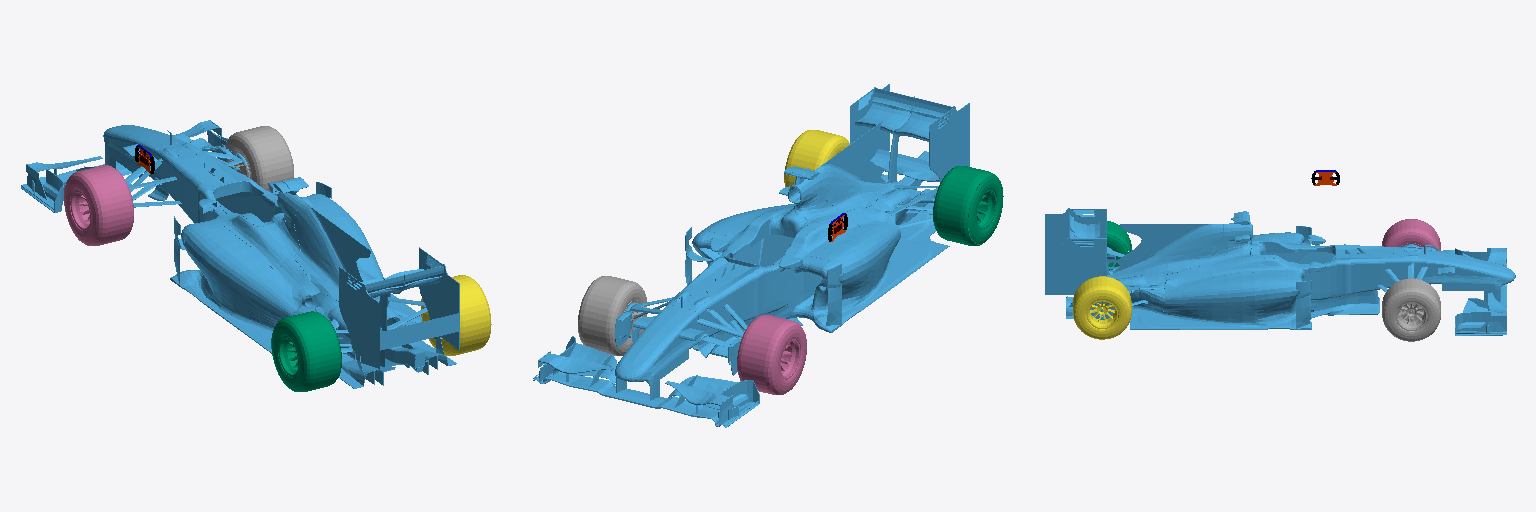
robot.urdf — f1_renault_ackermann_harmonic_laser:
<?xml version="1.0" ?>
<robot name="f1_renault_ackermann_harmonic_laser">
  <link name="base_link">
    <inertial>
      <mass value="0.1"/>
      <inertia ixx="0.001" ixy="0" ixz="0" iyy="0.001" iyz="0" izz="0.001"/>
    </inertial>
  </link>
  <joint name="chassis_link_joint" type="fixed">
    <origin rpy="0 0 0" xyz="0.0 0.0 0.0"/>
    <parent link="base_link"/>
    <child link="chassis_link"/>
  </joint>
  <link name="chassis_link">
    <inertial>
      <origin rpy="0 -0 0" xyz="1e-06 0.07307 0.65096"/>
      <mass value="1580"/>
      <inertia ixx="1997.86" ixy="-3e-05" ixz="-1e-06" iyy="442.769" iyz="62.5206" izz="2238.05"/>
    </inertial>
    <visual>
      <origin rpy="1.5708 -0 1.5708" xyz="0 1.51 0"/>
      <geometry>
        <mesh filename="package://f1/models/f1_renault_ackermann_harmonic_laser/Renault/chasis.obj" scale="5 5 5"/>
      </geometry>
    </visual>
  </link>
  <joint name="bl_axle" type="revolute">
    <origin rpy="0 -0 0" xyz="-0.775 -1.83364 0.324997"/>
    <parent link="chassis_link"/>
    <child link="bl_1"/>
    <axis xyz="-1 0 0"/>
    <limit effort="1000" velocity="100"/>
    <dynamics friction="12.031606150200002"/>
  </joint>
  <link name="bl_1">
    <origin rpy="0 -0 0" xyz="0 0 0"/>
    <inertial>
      <origin rpy="0 -0 0" xyz="-0.0377 0 -0"/>
      <mass value="24.5"/>
      <inertia ixx="1.84514" ixy="0" ixz="0" iyy="1.04961" iyz="0" izz="1.04961"/>
    </inertial>
    <visual>
      <origin rpy="0 -0 0" xyz="0.875 0.14 -1.0126"/>
      <geometry>
        <mesh filename="package://f1/models/f1_renault_ackermann_harmonic_laser/Renault/back_left.obj" scale="0.1 0.1 0.1"/>
      </geometry>
    </visual>
  </link>
  <joint name="br_axle" type="revolute">
    <origin rpy="0 -0 0" xyz="0.775 -1.83364 0.324997"/>
    <parent link="chassis_link"/>
    <child link="br_1"/>
    <axis xyz="-1 0 0"/>
    <limit effort="1000" velocity="100"/>
    <dynamics friction="12.031606150200002"/>
  </joint>
  <link name="br_1">
    <origin rpy="0 -0 0" xyz="0 0 0"/>
    <inertial>
      <origin rpy="0 -0 0" xyz="-0.0377 0 -0"/>
      <mass value="24.5"/>
      <inertia ixx="1.84514" ixy="0" ixz="0" iyy="1.04961" iyz="0" izz="1.04961"/>
    </inertial>
    <visual>
      <origin rpy="0 -0 0" xyz="-0.875 0.14 -1.0126"/>
      <geometry>
        <mesh filename="package://f1/models/f1_renault_ackermann_harmonic_laser/Renault/back_right.obj" scale="0.1 0.1 0.1"/>
      </geometry>
    </visual>
  </link>
  <joint name="steering_joint" type="revolute">
    <origin rpy="0 0 0" xyz="-0.01 0.6 0.6"/>
    <parent link="chassis_link"/>
    <child link="steering_wheel"/>
    <axis xyz="0.0 -1.0 0.0"/>
    <limit effort="100" lower="-5" upper="5" velocity="10"/>
    <dynamics damping="10.0"/>
  </joint>
  <link name="steering_wheel">
    <origin rpy="0 0 1.5708" xyz="0 0.87 -0.54"/>
    <inertial>
      <mass value="0.5"/>
      <inertia ixx="0.01" ixy="0" ixz="0" iyy="0.01" iyz="0" izz="0.01"/>
    </inertial>
    <visual>
      <origin rpy="0 0 0" xyz="0 0 0"/>
      <geometry>
        <mesh filename="package://f1/models/f1_renault_ackermann_harmonic_laser/Renault/steering_wheel.dae" scale="4.7 4.7 4.7"/>
      </geometry>
    </visual>
  </link>
  <joint name="front_steering" type="revolute">
    <origin rpy="0 -0 0" xyz="0 1.51736 0.324997"/>
    <parent link="chassis_link"/>
    <child link="front_steering_link"/>
    <axis xyz="0 0 1"/>
    <limit effort="1000" lower="-0.3" upper="0.3" velocity="2"/>
    <dynamics damping="0.1" friction="0.5"/>
  </joint>
  <link name="front_steering_link">
    <origin rpy="0 -0 0" xyz="0 0 0"/>
    <inertial>
      <origin rpy="0 -0 0" xyz="0 0 0"/>
      <mass value="2"/>
      <inertia ixx="0.01" ixy="0" ixz="0" iyy="0.01" iyz="0" izz="0.01"/>
    </inertial>
  </link>
  <joint name="fl_axle" type="revolute">
    <origin rpy="0 -0 0" xyz="-0.825 0 0"/>
    <parent link="front_steering_link"/>
    <child link="fl_1"/>
    <axis xyz="-1 0 0"/>
    <limit effort="1000" velocity="100"/>
    <dynamics friction="12.031606150200002"/>
  </joint>
  <link name="fl_1">
    <origin rpy="0 -0 0" xyz="0 0 0"/>
    <inertial>
      <origin rpy="0 -0 0" xyz="-0.0377 0 -0"/>
      <mass value="24.5"/>
      <inertia ixx="1.84514" ixy="0" ixz="0" iyy="1.04961" iyz="0" izz="1.04961"/>
    </inertial>
    <visual>
      <origin rpy="0 -0 0" xyz="0.875 0.1444 1.5174"/>
      <geometry>
        <mesh filename="package://f1/models/f1_renault_ackermann_harmonic_laser/Renault/front_left.obj" scale="0.1 0.1 0.1"/>
      </geometry>
    </visual>
  </link>
  <joint name="fr_axle" type="revolute">
    <origin rpy="0 -0 0" xyz="0.825 0 0"/>
    <parent link="front_steering_link"/>
    <child link="fr_1"/>
    <axis xyz="-1 0 0"/>
    <limit effort="1000" velocity="100"/>
    <dynamics friction="12.031606150200002"/>
  </joint>
  <link name="fr_1">
    <origin rpy="0 -0 0" xyz="0 0 0"/>
    <inertial>
      <origin rpy="0 -0 0" xyz="-0.0377 0 -0"/>
      <mass value="24.5"/>
      <inertia ixx="1.84514" ixy="0" ixz="0" iyy="1.04961" iyz="0" izz="1.04961"/>
    </inertial>
    <visual>
      <origin rpy="0 -0 0" xyz="-0.875 0.1444 1.5174"/>
      <geometry>
        <mesh filename="package://f1/models/f1_renault_ackermann_harmonic_laser/Renault/front_right.obj" scale="0.1 0.1 0.1"/>
      </geometry>
    </visual>
  </link>
  <link name="laser_body">
    <origin rpy="0.000000 0.000000 1.57000" xyz="0.00000 1.700000 0.7000"/>
    <inertial>
      <mass value="0.1"/>
      <inertia ixx="0.001" ixy="0.0" ixz="0.0" iyy="0.001" iyz="0.0" izz="0.001"/>
    </inertial>
    <visual>
      <geometry>
        <mesh filename="package://f1/models/f1_renault_ackermann_harmonic_laser/meshes/hokuyo.dae"/>
      </geometry>
    </visual>
  </link>
  <joint name="laser_fix" type="fixed">
    <origin rpy="0 0 0" xyz="0 0 0"/>
    <child link="laser_body"/>
    <parent link="chassis_link"/>
    <axis xyz="0 0 1"/>
  </joint>
</robot>

--- What the picture shows (computed from the rendered views, not written in the file) ---
The picture shows the robot from 3 angles, left to right: view 1: azimuth 30°, elevation 25°; view 2: azimuth 150°, elevation 25°; view 3: azimuth 270°, elevation 25°; orthographic projection.
Model f1_renault_ackermann_harmonic_laser with 9 links and 8 joints (6 revolute, 2 fixed), rooted at base_link, posed every joint at zero.
Links seen in each view (by area): view 1: chassis_link, bl_1, fl_1, fr_1, br_1; view 2: chassis_link, bl_1, fl_1, fr_1, br_1; view 3: chassis_link, fr_1, br_1, fl_1, bl_1.
Boxes of the visible links, x1,y1,x2,y2 form: chassis_link: [21, 120, 459, 388]; bl_1: [271, 311, 341, 391]; fl_1: [64, 165, 133, 245]; fr_1: [225, 126, 293, 195]; br_1: [421, 275, 491, 355]; chassis_link: [533, 84, 969, 427]; bl_1: [933, 166, 1003, 245]; fl_1: [737, 315, 806, 394]; fr_1: [578, 276, 646, 355]; br_1: [784, 130, 849, 186]; chassis_link: [1045, 208, 1515, 335]; fr_1: [1382, 278, 1440, 341]; br_1: [1073, 276, 1131, 339]; fl_1: [1382, 219, 1440, 250]; bl_1: [1107, 221, 1131, 270].
Bounding box of the posed robot: 1.9 × 5.11 × 1.24 m (x, y, z).
Meshes: 7 distinct files referenced, 7 mesh visuals loaded (2 Collada DAE, 5 OBJ).
